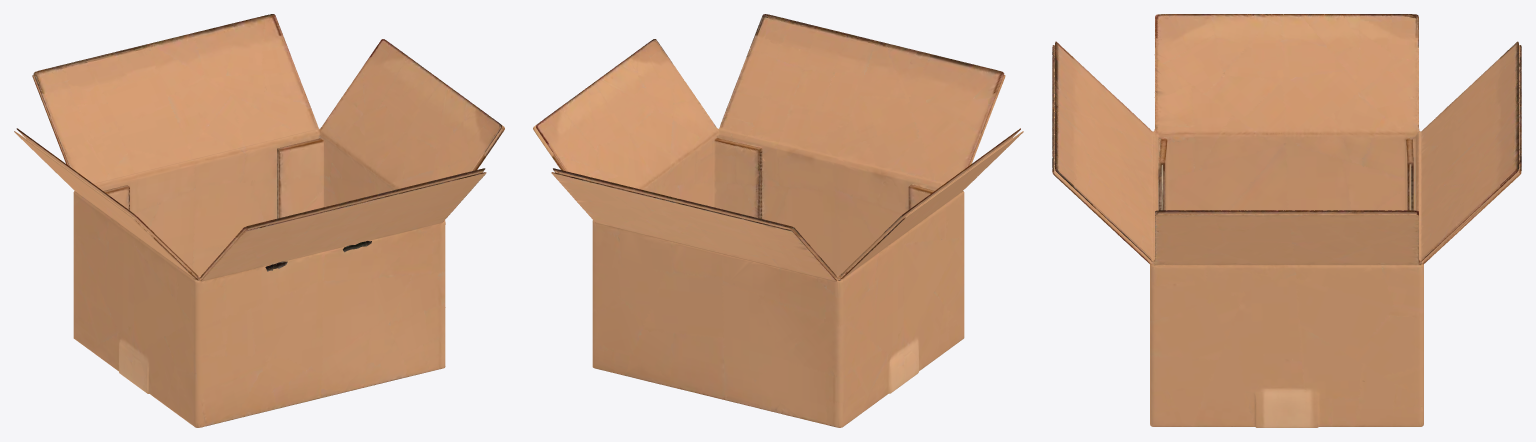
Rendered from Meshy_AI_Open_Cardboard_Box_0602031433_texture.glb.
The picture shows the model from 3 angles, left to right: view 1: azimuth 30°, elevation 25°; view 2: azimuth 150°, elevation 25°; view 3: azimuth 270°, elevation 25°; orthographic projection. The views are drawn at different scales.
Size of the model in its own units: 1.9 by 1.14 by 1.89.
Materials: 1 (1 with a texture image).
